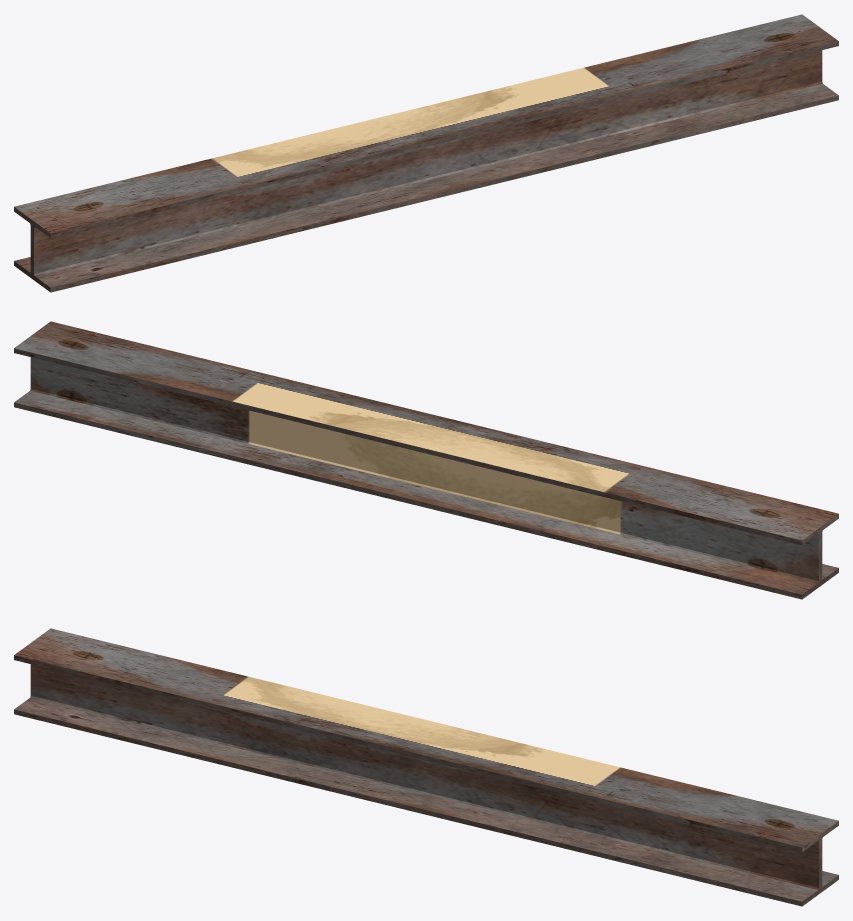
The picture shows the model from 3 angles, top to bottom: view 1: azimuth 30°, elevation 25°; view 2: azimuth 150°, elevation 25°; view 3: azimuth 330°, elevation 25°; orthographic projection.
Visible parts, largest first — view 1: Cube; view 2: Cube; view 3: Cube.
Boxes of the visible parts, x1,y1,x2,y2 form: Cube: (14, 14, 838, 292); Cube: (14, 321, 838, 599); Cube: (14, 628, 838, 906).
Bounding box in the file's own units: 303 × 21.67 × 24.45.
